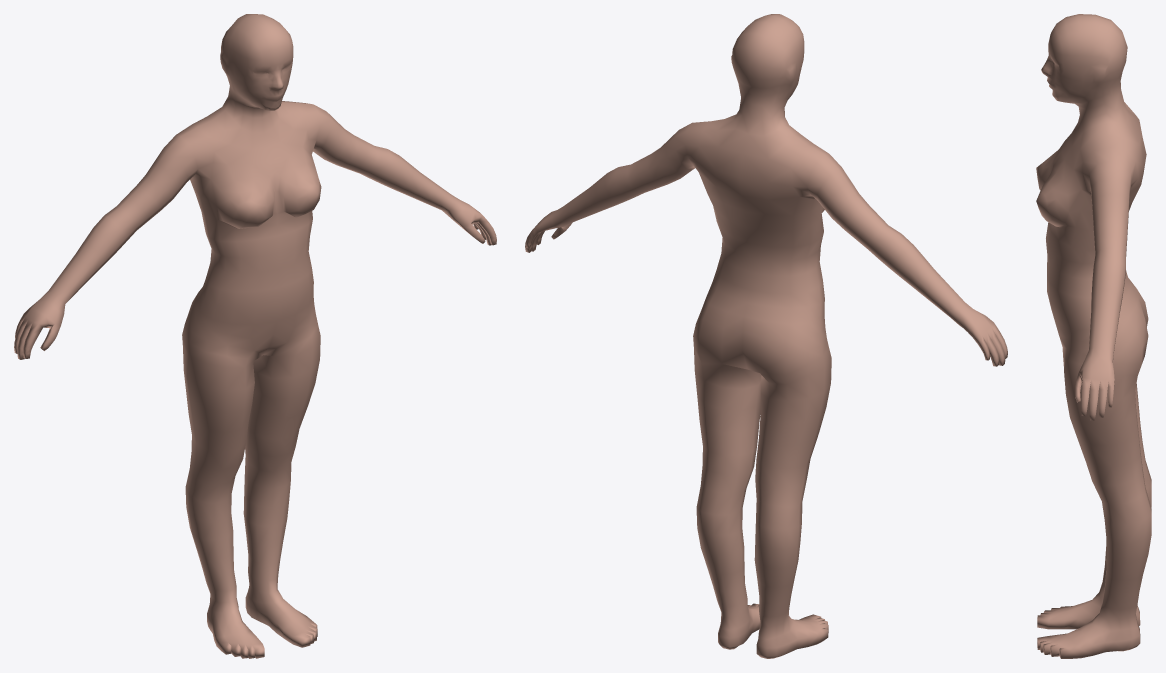
Rendered from mujer.fbx.
3 views of the same model, side by side, from view 1: azimuth 30°, elevation 25°; view 2: azimuth 150°, elevation 25°; view 3: azimuth 270°, elevation 25° (orthographic).
Parts seen in each view (by area): view 1: CharacterFemale:woman; view 2: CharacterFemale:woman; view 3: CharacterFemale:woman.
Boxes of the visible parts, <box> form: CharacterFemale:woman: <box>14,14,496,658</box>; CharacterFemale:woman: <box>525,14,1007,658</box>; CharacterFemale:woman: <box>1036,14,1151,658</box>.
Bounding box in the file's own units: 1.38 × 1.73 × 0.2905.
